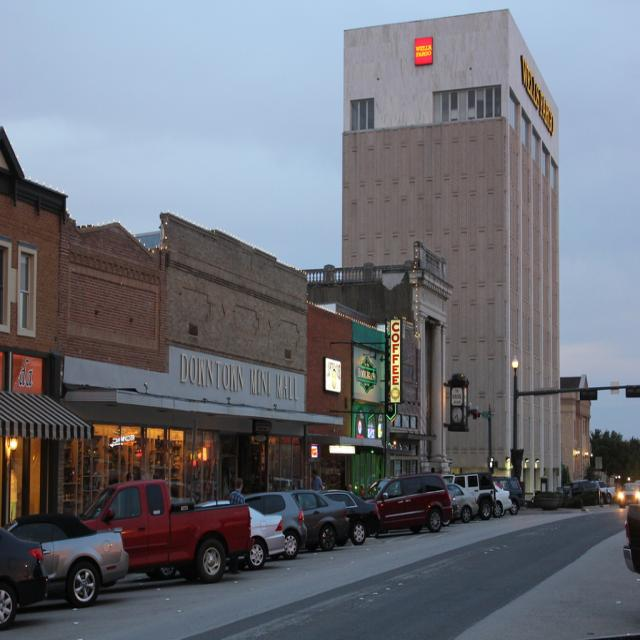car: (0, 505, 123, 614)
